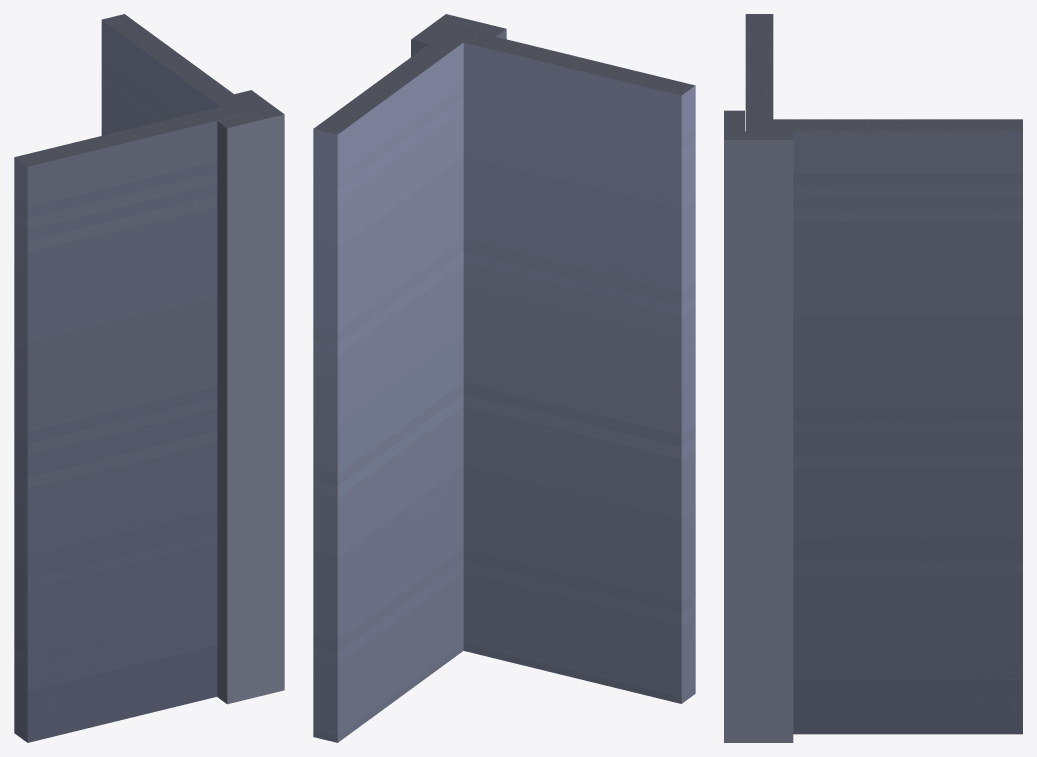
File: wall-corner-column-small.glb
3 renders of one model, left to right at view 1: azimuth 30°, elevation 25°; view 2: azimuth 150°, elevation 25°; view 3: azimuth 270°, elevation 25°, orthographic. The views are drawn at different scales.
Visible parts, largest first — view 1: wall-corner-column-small; view 2: wall-corner-column-small; view 3: wall-corner-column-small.
Boxes of the visible parts, x1,y1,x2,y2 form: wall-corner-column-small: [14, 14, 284, 742]; wall-corner-column-small: [313, 14, 695, 742]; wall-corner-column-small: [724, 14, 1022, 742].
Size of the model in its own units: 1.07 by 2.4 by 1.08.
Materials: 1 (1 with a texture image).
